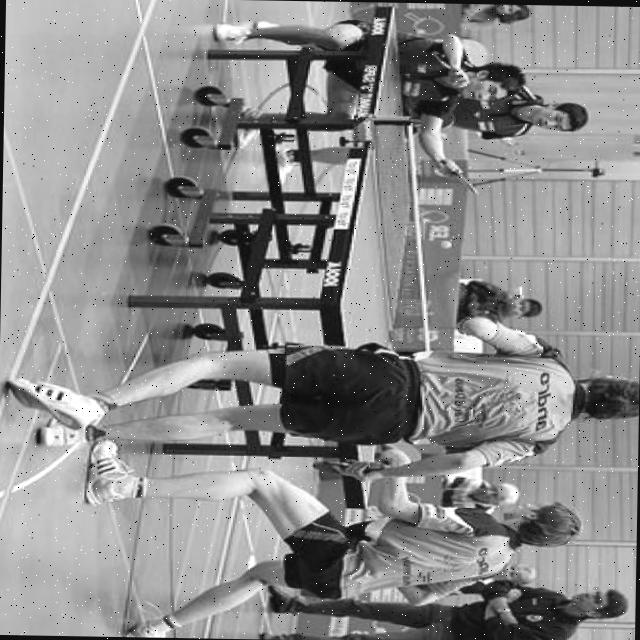ping-pong-ball: (439, 240, 453, 248)
